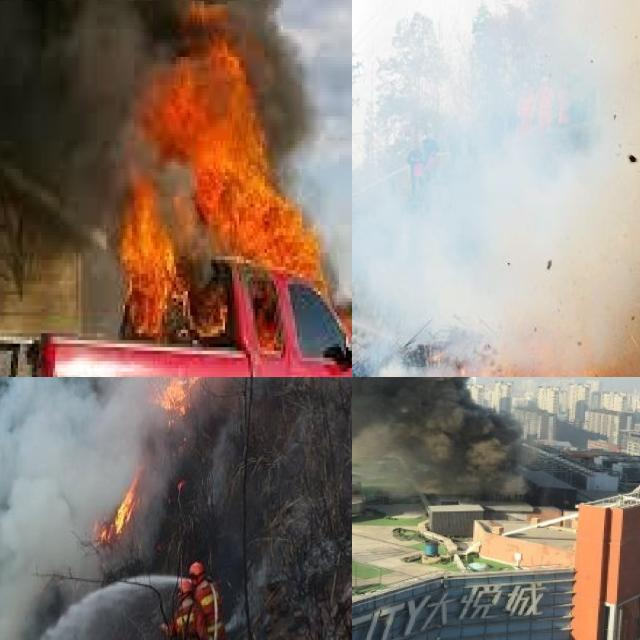fire: (113, 4, 352, 361), (92, 466, 145, 542)
smoke: (352, 0, 640, 359), (0, 377, 310, 640), (0, 0, 311, 242), (352, 377, 527, 495)
